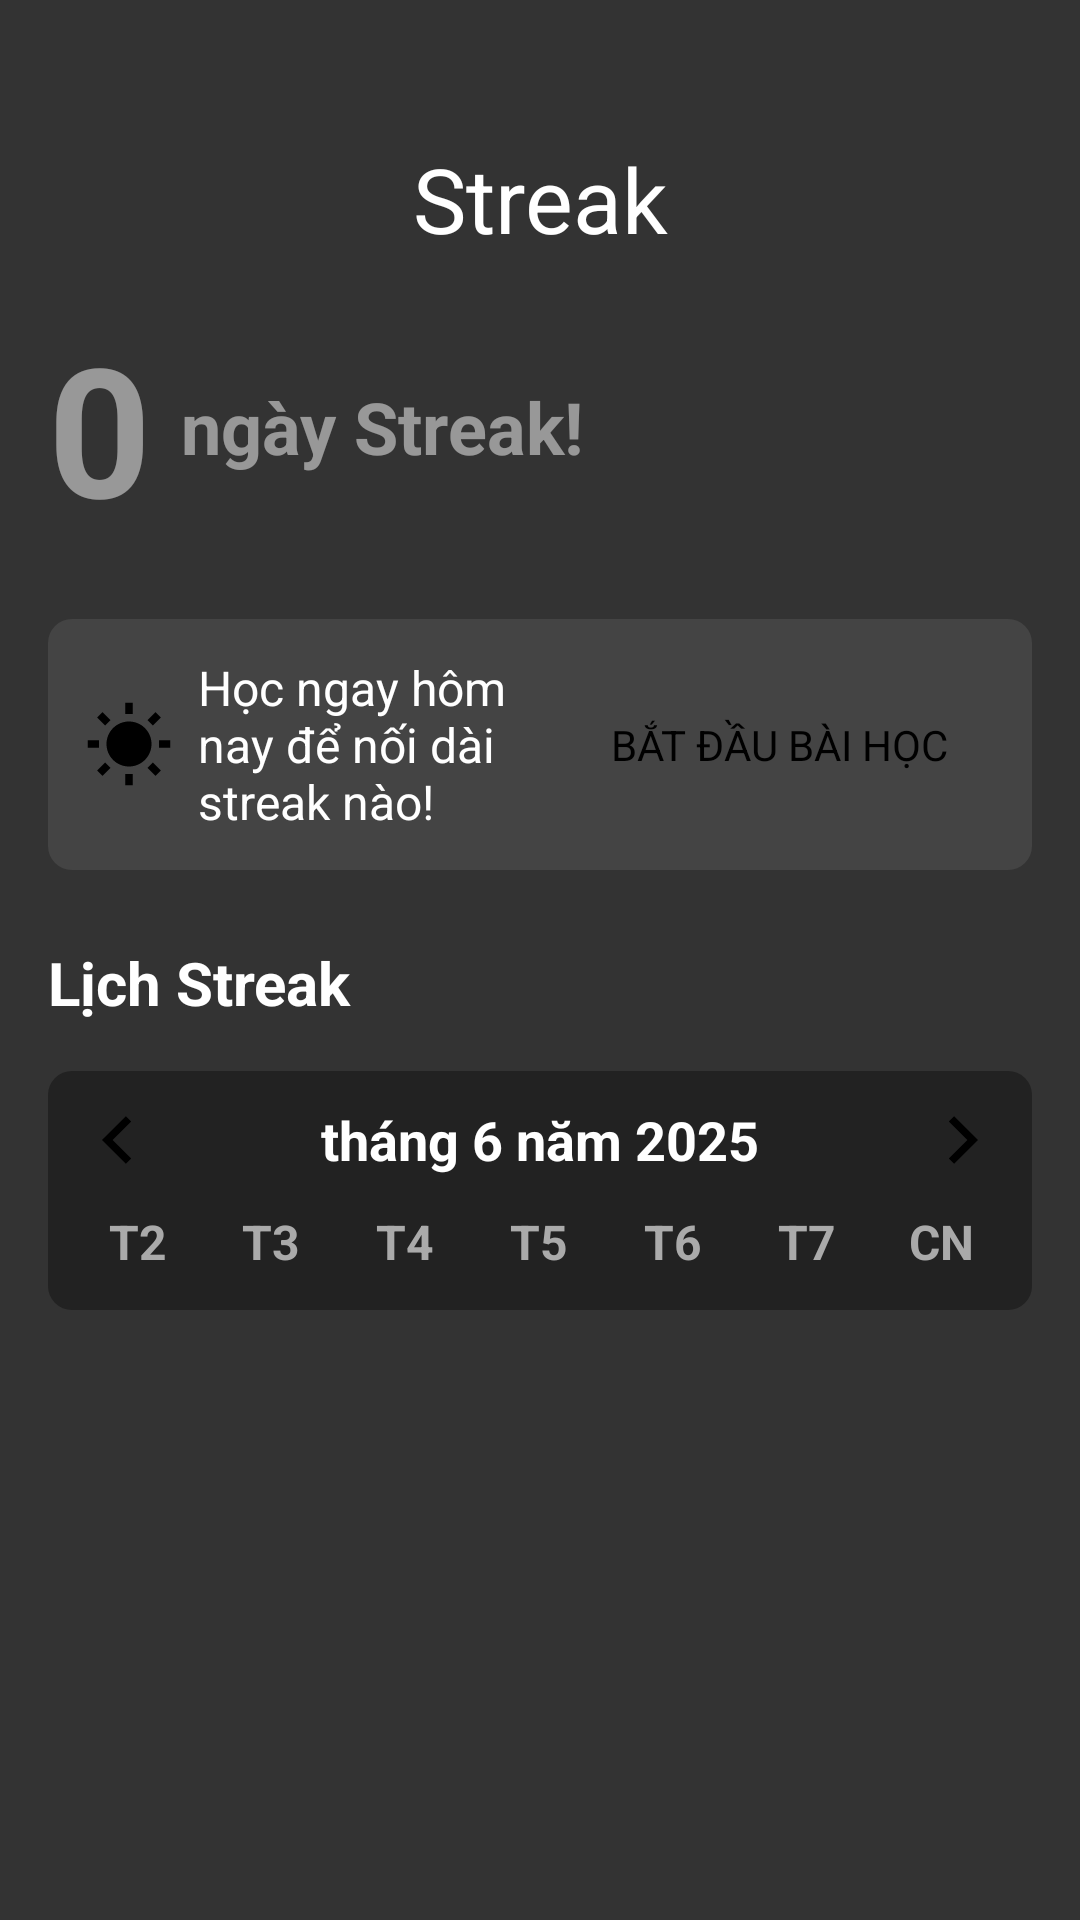

Locate icon controls on the screen. Image size 1080x1920, boxes as region(x1, y1, x2, y2).
Next Month: region(949, 1117, 977, 1163)
Previous Month: region(103, 1117, 131, 1163)
